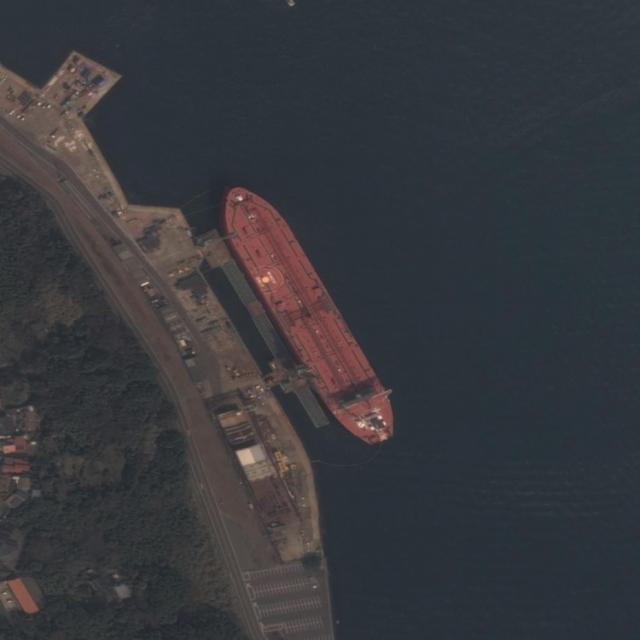Dock: (196, 228, 330, 429)
Oil Tanker: (206, 171, 407, 459)
